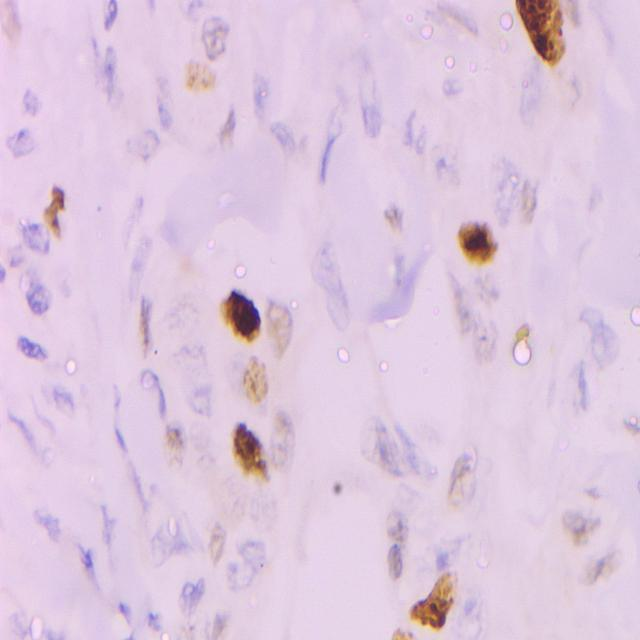Healthy cell: (309, 233, 348, 328), (366, 412, 414, 479), (143, 513, 196, 564), (92, 33, 128, 108), (582, 303, 619, 369), (433, 523, 476, 574), (268, 120, 308, 166), (396, 100, 425, 156), (236, 537, 274, 573), (359, 90, 385, 140), (126, 124, 158, 164), (249, 66, 273, 119), (519, 69, 540, 129), (222, 553, 256, 590), (5, 124, 36, 164), (27, 268, 51, 314), (18, 330, 46, 368), (17, 222, 49, 255), (414, 456, 440, 493), (24, 82, 46, 116), (99, 0, 121, 32), (180, 576, 202, 601)
cancer-cell-QiJm: (160, 259, 218, 343), (401, 0, 482, 57), (448, 273, 503, 353), (513, 0, 579, 61), (577, 542, 640, 597), (558, 60, 608, 124), (374, 499, 408, 586), (412, 576, 464, 629), (119, 288, 159, 354), (232, 418, 270, 484), (266, 293, 305, 357), (448, 444, 487, 506), (199, 12, 238, 70), (220, 285, 258, 344), (163, 338, 217, 378), (41, 183, 78, 238), (174, 604, 230, 640), (270, 399, 297, 473), (196, 473, 243, 515), (156, 418, 190, 473), (207, 97, 241, 151), (146, 70, 177, 127), (236, 353, 268, 406), (458, 222, 500, 262), (560, 508, 602, 546), (180, 59, 226, 93), (177, 386, 217, 418), (0, 0, 27, 41), (517, 173, 538, 225), (569, 472, 606, 499), (382, 619, 420, 640), (386, 197, 406, 230), (512, 307, 531, 341), (209, 516, 221, 561), (326, 475, 344, 495)
